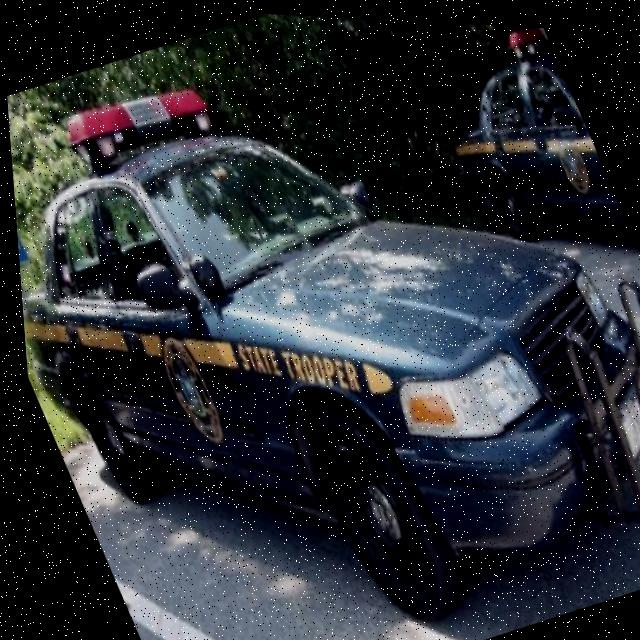license_plate: (605, 385, 640, 454)
